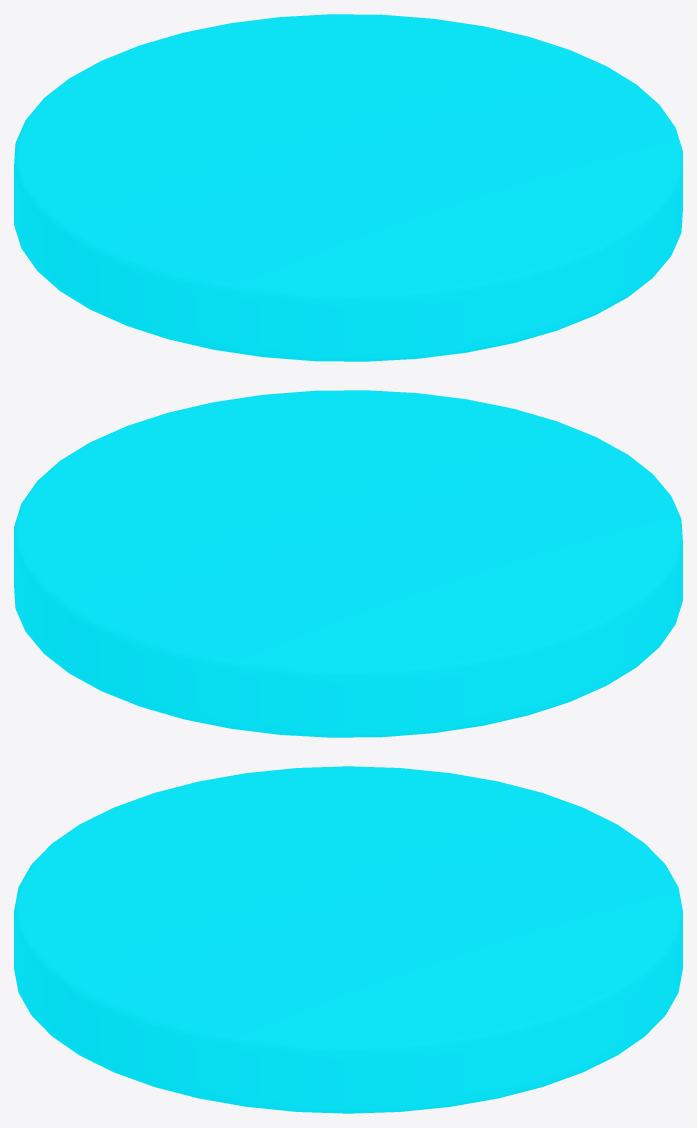
File: LampeModellUnity.fbx
The picture shows the model from 3 angles, top to bottom: view 1: azimuth 30°, elevation 25°; view 2: azimuth 150°, elevation 25°; view 3: azimuth 270°, elevation 25°; orthographic projection.
Parts seen in each view (by area): view 1: Lampe; view 2: Lampe; view 3: Lampe.
Part boxes in pixels (box(x1,y1,x2,y2)): Lampe: box(14, 14, 682, 361); Lampe: box(14, 390, 682, 737); Lampe: box(14, 766, 682, 1113).
Size of the model in its own units: 44 by 7.56 by 44.
